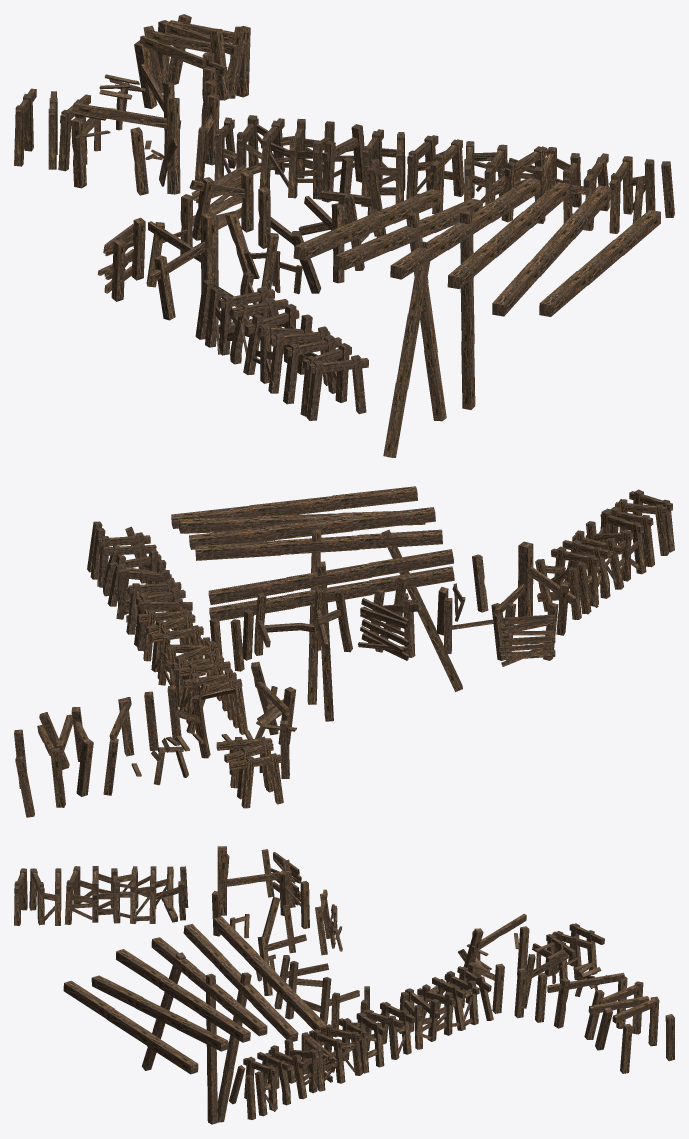
File: JAM_Wood.fbx
3 renders of one model, top to bottom at view 1: azimuth 30°, elevation 25°; view 2: azimuth 150°, elevation 25°; view 3: azimuth 270°, elevation 25°, orthographic. The views are drawn at different scales.
Parts seen in each view (by area): view 1: ENV_wood; view 2: ENV_wood; view 3: ENV_wood.
Boxes of the visible parts, x1,y1,x2,y2 form: ENV_wood: (14, 14, 674, 457); ENV_wood: (14, 486, 674, 817); ENV_wood: (14, 846, 674, 1124).
Size of the model in its own units: 108 by 48.01 by 150.
